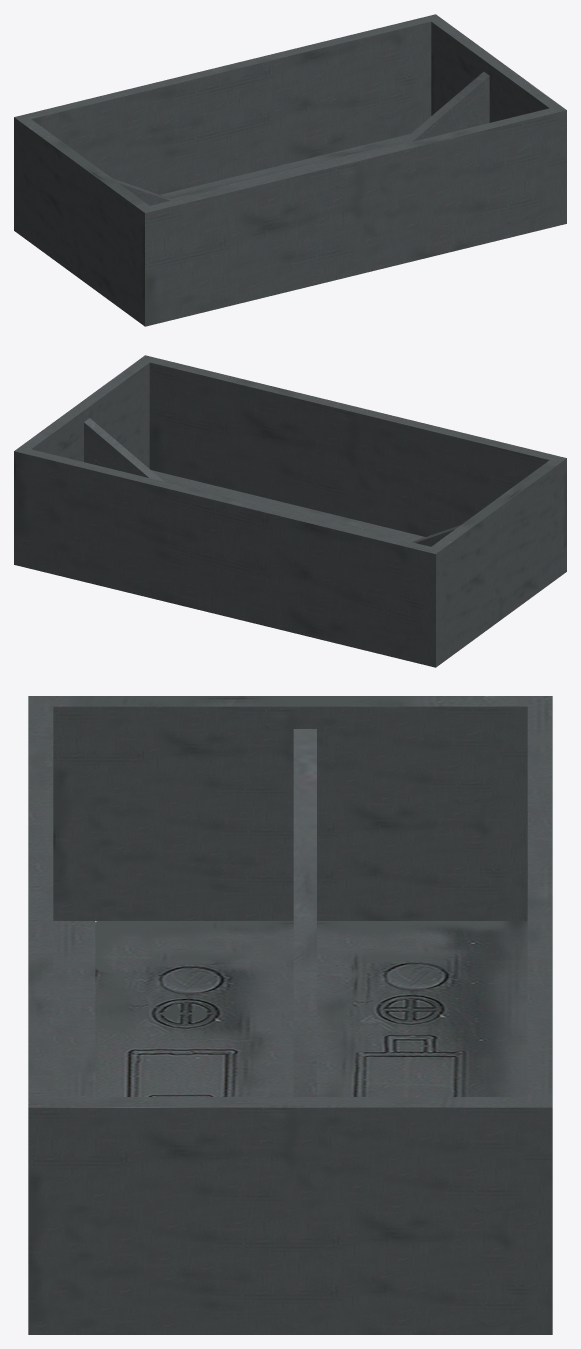
File: battery_holder.FBX
3 renders of one model, top to bottom at view 1: azimuth 30°, elevation 25°; view 2: azimuth 150°, elevation 25°; view 3: azimuth 270°, elevation 25°, orthographic. The views are drawn at different scales.
Parts seen in each view (by area): view 1: Box001; view 2: Box001; view 3: Box001.
Boxes of the visible parts, x1,y1,x2,y2 form: Box001: [14, 14, 566, 326]; Box001: [14, 355, 566, 667]; Box001: [28, 696, 552, 1334].
Size of the model in its own units: 93.32 by 24.01 by 50.25.
Materials: 1 (1 with a texture image).
